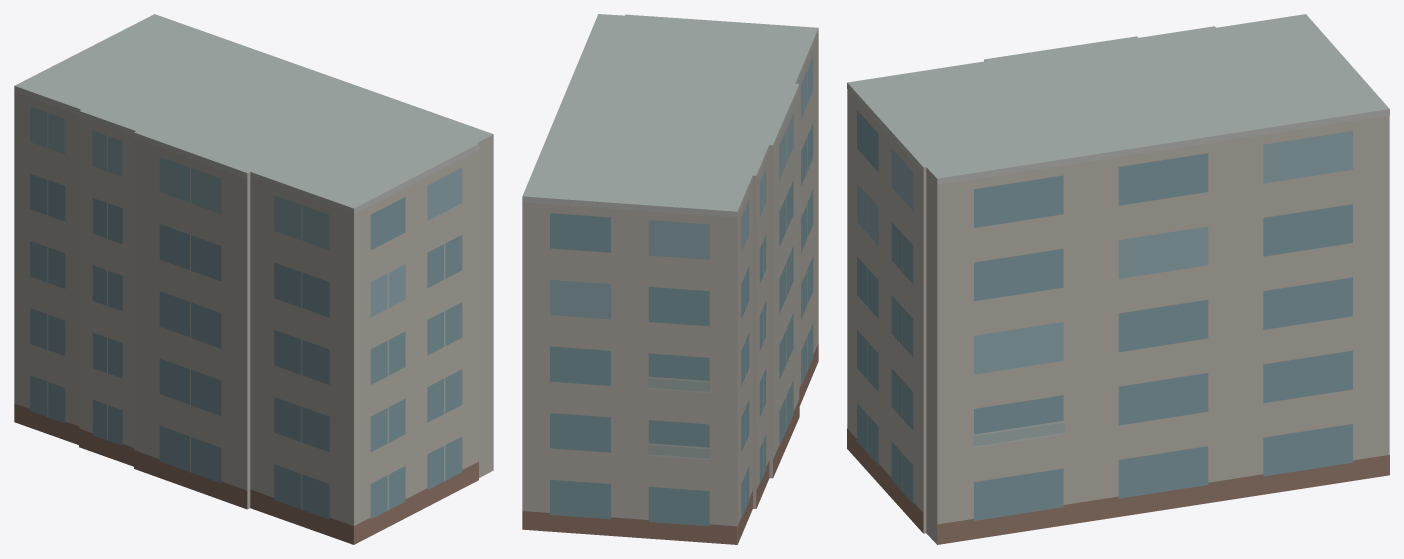
The model's file is survey-upis-32836404.glb.
3 renders of one model, left to right at view 1: azimuth 30°, elevation 25°; view 2: azimuth 150°, elevation 25°; view 3: azimuth 270°, elevation 25°, orthographic. The views are drawn at different scales.
Visible parts, largest first — view 1: survey-upis-32836404.tmp; view 2: survey-upis-32836404.tmp; view 3: survey-upis-32836404.tmp.
Part boxes in pixels (<box>): survey-upis-32836404.tmp: <box>14,14,493,544</box>; survey-upis-32836404.tmp: <box>522,14,818,544</box>; survey-upis-32836404.tmp: <box>847,14,1389,544</box>.
Bounding box in the file's own units: 13.7 × 14.2 × 19.08.
